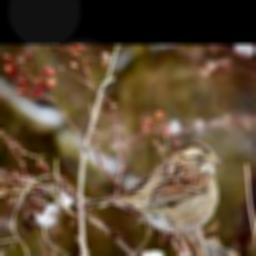Sparrow: (84, 142, 225, 247)
